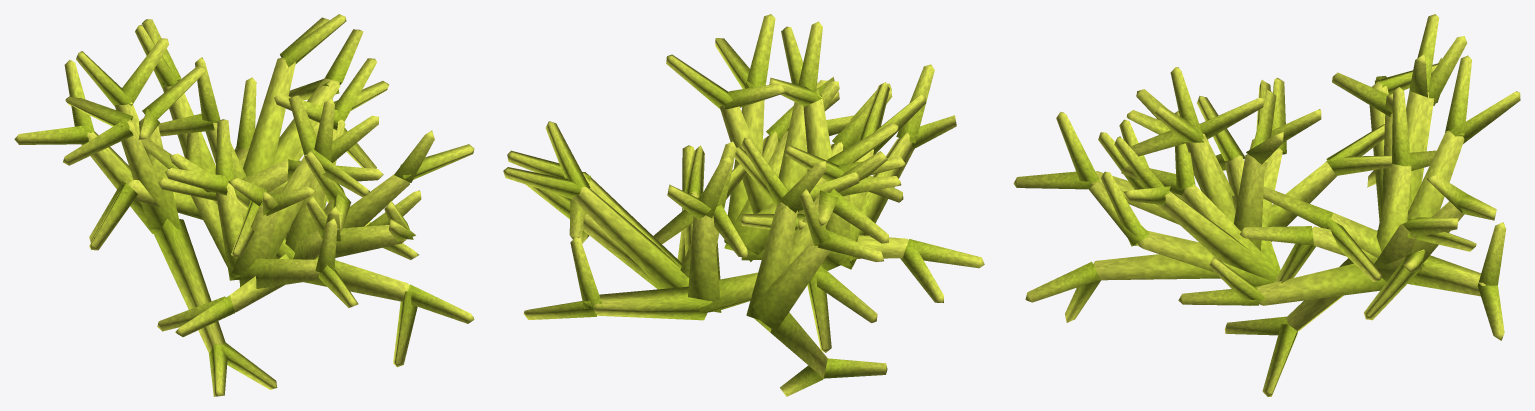
The model's file is wolflichenitem.glb.
The picture shows the model from 3 angles, left to right: view 1: azimuth 30°, elevation 25°; view 2: azimuth 150°, elevation 25°; view 3: azimuth 270°, elevation 25°; orthographic projection. The views are drawn at different scales.
Parts seen in each view (by area): view 1: wolflichenitem; view 2: wolflichenitem; view 3: wolflichenitem.
Boxes of the visible parts, bbox=[...] form: wolflichenitem: bbox=[14, 14, 474, 396]; wolflichenitem: bbox=[503, 14, 984, 396]; wolflichenitem: bbox=[1013, 14, 1520, 396].
Bounding box in the file's own units: 0.1546 × 0.1322 × 0.1799.
1 material, 1 textured.
